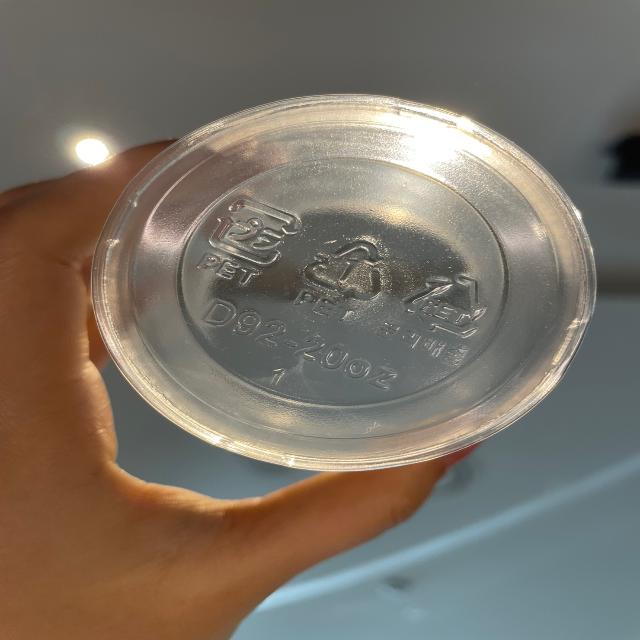pet: (380, 260, 489, 369), (186, 190, 299, 294), (293, 233, 388, 324)
